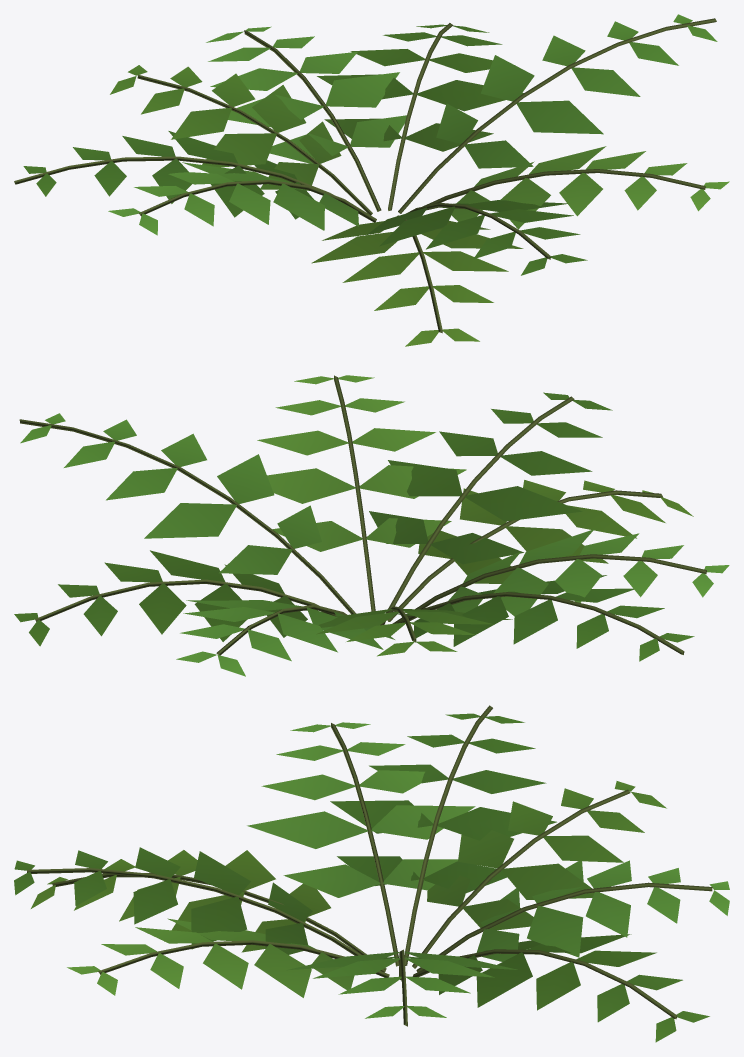
File: fern-lady-a.lod1.glb
3 renders of one model, top to bottom at view 1: azimuth 30°, elevation 25°; view 2: azimuth 150°, elevation 25°; view 3: azimuth 270°, elevation 25°, orthographic. The views are drawn at different scales.
Parts seen in each view (by area): view 1: fern-lady-a.lod1; view 2: fern-lady-a.lod1; view 3: fern-lady-a.lod1.
Boxes of the visible parts, x1,y1,x2,y2 form: fern-lady-a.lod1: (14,14,729,346); fern-lady-a.lod1: (14,375,729,676); fern-lady-a.lod1: (14,705,729,1042).
Size of the model in its own units: 1.5 by 0.2614 by 1.3.
